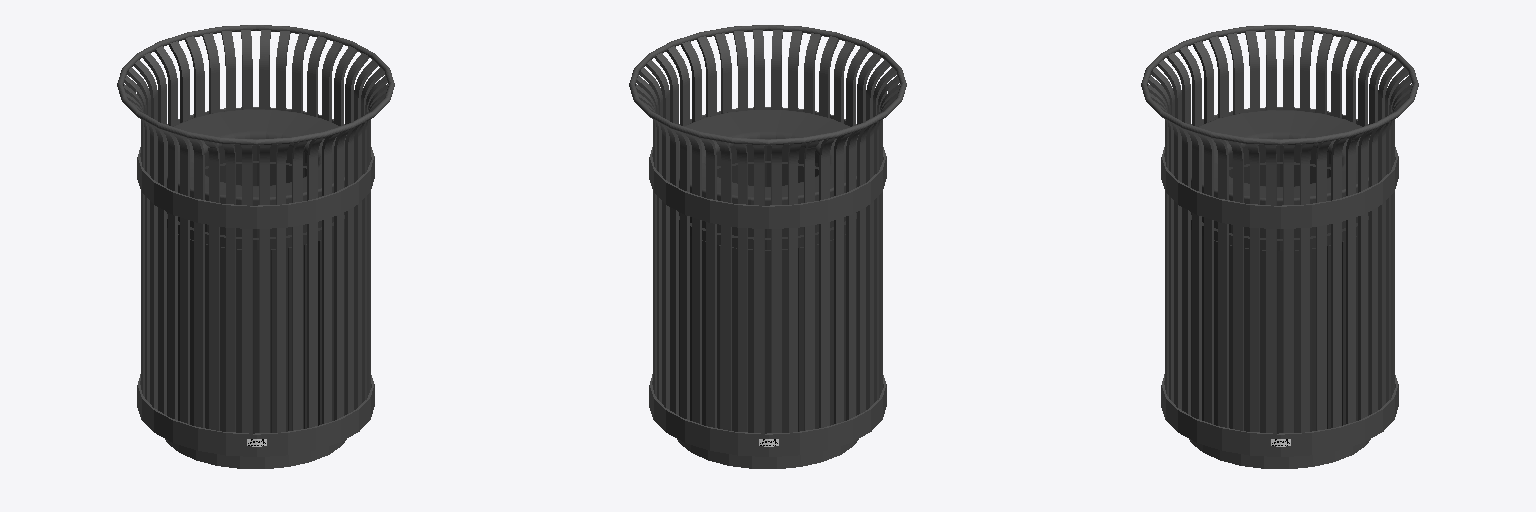
The picture shows the model from 3 angles: view 1: azimuth 30°, elevation 25°; view 2: azimuth 150°, elevation 25°; view 3: azimuth 270°, elevation 25°; orthographic projection.
Visible parts, largest first — view 1: mesh157_mesh157-geometry, mesh176_mesh176-geometry, mesh237_mesh237-geometry, mesh205_mesh205-geometry, mesh73_mesh73-geometry, mesh164_mesh164-geometry, mesh201_mesh201-geometry, mesh145_mesh145-geometry, mesh143_mesh143-geometry, mesh166_mesh166-geometry, mesh199_mesh199-geometry, mesh197_mesh197-geometry (+28 smaller); view 2: mesh157_mesh157-geometry, mesh176_mesh176-geometry, mesh237_mesh237-geometry, mesh205_mesh205-geometry, mesh172_mesh172-geometry, mesh191_mesh191-geometry, mesh185_mesh185-geometry, mesh183_mesh183-geometry, mesh112_mesh112-geometry, mesh189_mesh189-geometry, mesh187_mesh187-geometry, mesh170_mesh170-geometry (+28 smaller); view 3: mesh157_mesh157-geometry, mesh176_mesh176-geometry, mesh237_mesh237-geometry, mesh205_mesh205-geometry, mesh73_mesh73-geometry, mesh116_mesh116-geometry, mesh129_mesh129-geometry, mesh125_mesh125-geometry, mesh155_mesh155-geometry, mesh137_mesh137-geometry, mesh174_mesh174-geometry, mesh131_mesh131-geometry (+28 smaller).
Part boxes in pixels (left/top/right/bottom): mesh157_mesh157-geometry: left=137, top=107, right=374, bottom=228; mesh176_mesh176-geometry: left=137, top=374, right=374, bottom=456; mesh237_mesh237-geometry: left=165, top=109, right=346, bottom=205; mesh205_mesh205-geometry: left=117, top=25, right=394, bottom=145; mesh73_mesh73-geometry: left=167, top=145, right=344, bottom=433; mesh164_mesh164-geometry: left=204, top=141, right=219, bottom=430; mesh201_mesh201-geometry: left=241, top=145, right=252, bottom=433; mesh145_mesh145-geometry: left=292, top=141, right=307, bottom=430; mesh143_mesh143-geometry: left=307, top=138, right=324, bottom=427; mesh166_mesh166-geometry: left=187, top=138, right=204, bottom=427; mesh199_mesh199-geometry: left=259, top=145, right=270, bottom=432; mesh197_mesh197-geometry: left=276, top=144, right=289, bottom=432; mesh157_mesh157-geometry: left=649, top=107, right=886, bottom=228; mesh176_mesh176-geometry: left=649, top=374, right=886, bottom=456; mesh237_mesh237-geometry: left=677, top=110, right=858, bottom=205; mesh205_mesh205-geometry: left=629, top=25, right=906, bottom=145; mesh172_mesh172-geometry: left=716, top=141, right=731, bottom=430; mesh191_mesh191-geometry: left=753, top=145, right=764, bottom=433; mesh185_mesh185-geometry: left=804, top=141, right=819, bottom=430; mesh183_mesh183-geometry: left=819, top=138, right=836, bottom=427; mesh112_mesh112-geometry: left=699, top=138, right=716, bottom=427; mesh189_mesh189-geometry: left=771, top=145, right=782, bottom=432; mesh187_mesh187-geometry: left=788, top=144, right=801, bottom=432; mesh170_mesh170-geometry: left=734, top=144, right=747, bottom=431; mesh157_mesh157-geometry: left=1161, top=107, right=1398, bottom=228; mesh176_mesh176-geometry: left=1161, top=374, right=1398, bottom=456; mesh237_mesh237-geometry: left=1189, top=110, right=1370, bottom=205; mesh205_mesh205-geometry: left=1141, top=25, right=1418, bottom=145; mesh73_mesh73-geometry: left=1191, top=145, right=1368, bottom=433; mesh116_mesh116-geometry: left=1228, top=141, right=1243, bottom=430; mesh129_mesh129-geometry: left=1316, top=141, right=1331, bottom=430; mesh125_mesh125-geometry: left=1265, top=145, right=1276, bottom=433; mesh155_mesh155-geometry: left=1331, top=138, right=1348, bottom=427; mesh137_mesh137-geometry: left=1211, top=138, right=1228, bottom=427; mesh174_mesh174-geometry: left=1283, top=145, right=1294, bottom=432; mesh131_mesh131-geometry: left=1300, top=144, right=1313, bottom=432.
Size of the model in its own units: 0.5065 by 0.6979 by 0.5065.
4 materials, 1 textured.